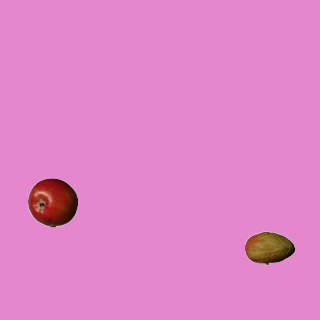Apple Braeburn: (27, 177, 77, 227)
Papaya: (244, 223, 294, 273)
